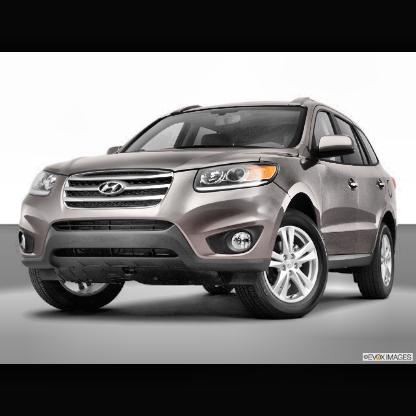Hyundai Santa Fe SUV 2012: (5, 74, 414, 335)
